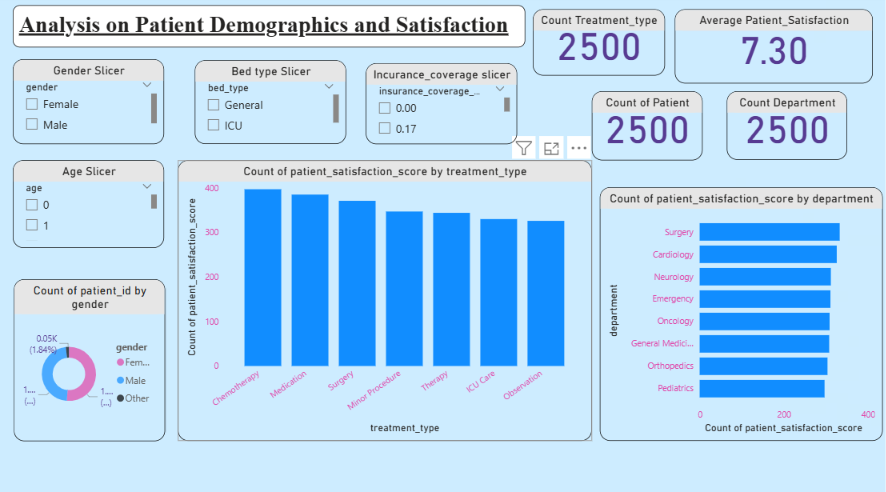

The page's visual inventory and layout, read from the dashboard file:
{"tool":"powerbi","page":{"name":"patient demographics and satisfaction","canvas":[1280,720],"ordinal":2},"visuals":[{"type":"clusteredBarChart","fields":{"Category":["healthcare_capstone_2500.department"],"Y":["CountNonNull(healthcare_capstone_2500.patient_satisfaction_score)"]},"box":[863.1,273.1,402.1,360.9],"z":0},{"type":"donutChart","fields":{"Category":["healthcare_capstone_2500.gender"],"Y":["CountNonNull(healthcare_capstone_2500.patient_id)"]},"box":[30.2,403.4,215.4,230.5],"z":1000},{"type":"clusteredColumnChart","fields":{"Category":["healthcare_capstone_2500.treatment_type"],"Y":["CountNonNull(healthcare_capstone_2500.patient_satisfaction_score)"]},"box":[263.5,234.6,588.7,399.3],"z":2000},{"type":"card","title":"Count Treatment_type","fields":{"Values":["CountNonNull(healthcare_capstone_2500.treatment_type)"]},"box":[768.4,20.6,188,94.7],"z":3000},{"type":"card","title":"Count of Patient","fields":{"Values":["CountNonNull(healthcare_capstone_2500.patient_id)"]},"box":[852.1,135.8,157.8,98.8],"z":4000},{"type":"card","title":"Count Department","fields":{"Values":["CountNonNull(healthcare_capstone_2500.department)"]},"box":[1044.3,137.2,171.5,97.4],"z":5000},{"type":"card","title":"Average Patient_Satisfaction","fields":{"Values":["Avg(healthcare_capstone_2500.patient_satisfaction_score)"]},"box":[970.2,20.6,281.3,105.7],"z":6000},{"type":"slicer","title":"Age Slicer","fields":{"Values":["healthcare_capstone_2500.age"]},"box":[28.8,234.6,215.4,124.9],"z":7000},{"type":"slicer","title":"Gender Slicer","fields":{"Values":["healthcare_capstone_2500.gender"]},"box":[28.8,90.6,215.4,120.8],"z":8000},{"type":"slicer","title":"Incurance_coverage slicer","fields":{"Values":["healthcare_capstone_2500.insurance_coverage_percent"]},"box":[531,96.1,215.4,115.3],"z":9000},{"type":"slicer","title":"Bed type Slicer ","fields":{"Values":["healthcare_capstone_2500.bed_type"]},"box":[286.8,91.9,215.4,119.4],"z":10000},{"type":"textbox","box":[28.8,13.7,728.6,60.4],"z":11000}]}

Visuals, with their boxes in screenshot pixels (x1, y1, x2, y2), scaled from the page's 1280x720 canvas onto the 886x492 screenshot:
clusteredBarChart - healthcare_capstone_2500.department x CountNonNull(healthcare_capstone_2500.patient_satisfaction_score): bbox=(597, 187, 876, 433)
donutChart - healthcare_capstone_2500.gender x CountNonNull(healthcare_capstone_2500.patient_id): bbox=(21, 276, 170, 433)
clusteredColumnChart - healthcare_capstone_2500.treatment_type x CountNonNull(healthcare_capstone_2500.patient_satisfaction_score): bbox=(182, 160, 590, 433)
"Count Treatment_type" card: bbox=(532, 14, 662, 79)
"Count of Patient" card: bbox=(590, 93, 699, 160)
"Count Department" card: bbox=(723, 94, 842, 160)
"Average Patient_Satisfaction" card: bbox=(672, 14, 866, 86)
"Age Slicer" slicer: bbox=(20, 160, 169, 246)
"Gender Slicer" slicer: bbox=(20, 62, 169, 144)
"Incurance_coverage slicer" slicer: bbox=(368, 66, 517, 144)
"Bed type Slicer " slicer: bbox=(199, 63, 348, 144)
textbox: bbox=(20, 9, 524, 51)
